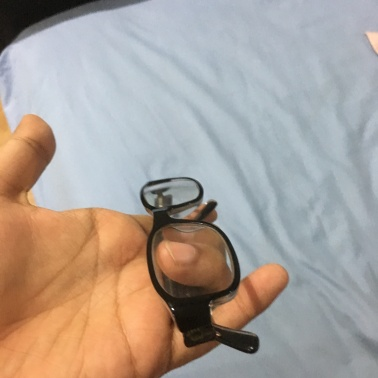glasses: (125, 163, 244, 344)
